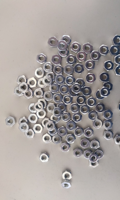nut: (85, 73, 96, 84), (61, 35, 72, 46), (48, 37, 59, 48), (39, 152, 50, 163), (62, 170, 73, 181), (5, 116, 16, 127), (100, 87, 111, 98), (43, 91, 54, 102), (59, 84, 70, 95), (65, 75, 76, 86), (53, 65, 64, 76), (43, 62, 54, 73), (34, 68, 45, 79), (34, 88, 45, 99), (74, 63, 84, 75), (72, 83, 82, 95), (42, 76, 54, 86), (99, 45, 109, 56), (90, 51, 101, 61), (83, 43, 93, 54), (85, 60, 95, 71), (100, 72, 110, 83), (77, 51, 87, 62), (71, 42, 81, 53), (57, 41, 68, 51), (58, 47, 69, 57), (66, 55, 76, 66), (104, 130, 114, 141), (84, 127, 94, 138), (103, 120, 114, 130), (96, 103, 106, 114), (88, 111, 98, 122), (73, 148, 83, 159), (60, 143, 71, 153), (72, 113, 83, 123), (87, 97, 97, 108), (70, 103, 80, 114), (46, 121, 56, 132), (52, 108, 63, 118), (33, 124, 44, 134), (36, 109, 47, 119), (76, 95, 86, 106), (53, 94, 64, 104), (55, 75, 66, 85), (46, 71, 56, 82), (52, 55, 62, 66), (37, 54, 47, 65), (59, 85, 70, 95), (37, 78, 47, 89), (19, 83, 29, 94), (110, 46, 120, 56), (104, 61, 114, 71), (103, 110, 113, 120), (93, 119, 103, 129), (94, 150, 104, 160), (81, 139, 91, 149), (66, 134, 76, 144), (52, 135, 62, 145), (66, 121, 76, 131), (74, 127, 84, 137), (80, 105, 90, 115), (28, 114, 38, 124), (25, 129, 35, 139), (19, 123, 29, 133), (34, 102, 44, 112), (82, 87, 92, 97), (62, 95, 72, 105), (75, 79, 85, 89), (64, 65, 74, 75), (24, 89, 34, 99), (27, 78, 37, 88), (17, 76, 27, 86), (50, 84, 60, 94), (62, 112, 71, 123), (62, 180, 72, 189), (89, 154, 99, 163), (91, 140, 100, 150), (58, 127, 67, 137), (43, 134, 52, 144), (51, 115, 61, 124), (47, 103, 56, 113), (42, 118, 51, 128), (28, 104, 38, 113), (19, 117, 28, 127), (38, 99, 47, 109), (58, 103, 67, 113), (104, 82, 113, 92), (95, 90, 104, 100), (14, 87, 23, 97), (90, 159, 99, 168), (69, 88, 78, 97), (48, 128, 58, 136), (113, 35, 120, 46), (84, 150, 92, 159), (114, 135, 120, 145), (115, 66, 120, 76), (115, 55, 120, 65), (118, 102, 120, 113)
